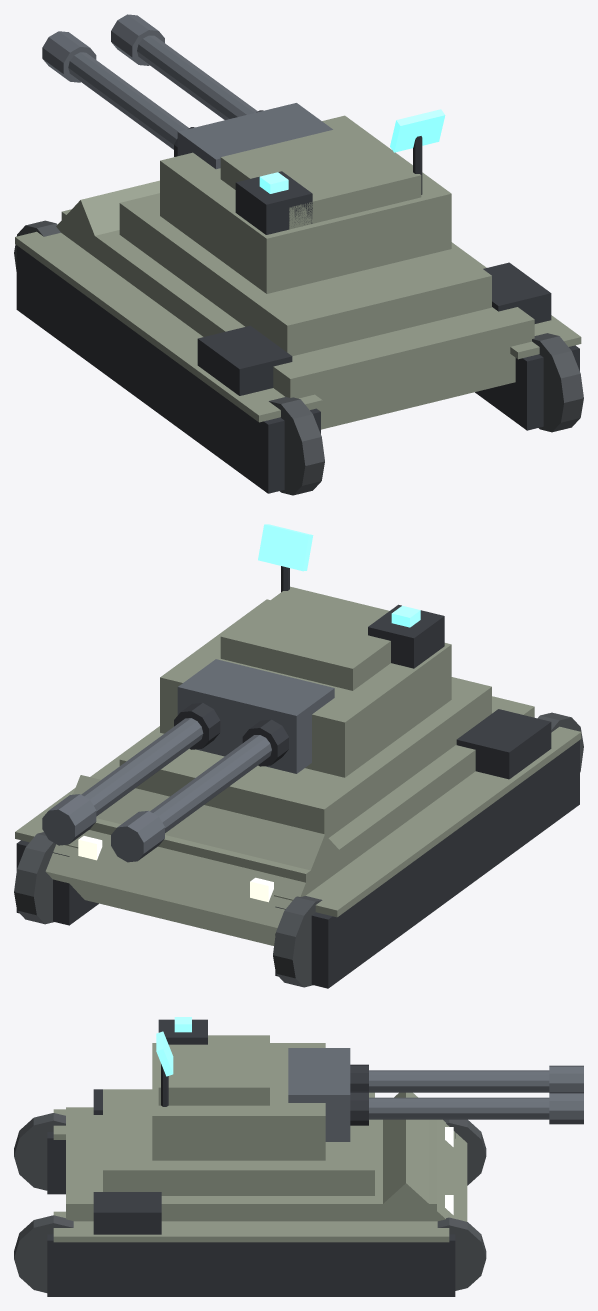
The model's file is tank_twin.glb.
3 renders of one model, top to bottom at view 1: azimuth 30°, elevation 25°; view 2: azimuth 150°, elevation 25°; view 3: azimuth 270°, elevation 25°, orthographic. The views are drawn at different scales.
Visible parts, largest first — view 1: TankHull_twin, TankTurret_twin; view 2: TankHull_twin, TankTurret_twin; view 3: TankHull_twin, TankTurret_twin.
Part boxes in pixels (x1,y1,x2,y2): TankHull_twin: (14, 180, 583, 495); TankTurret_twin: (42, 14, 451, 293); TankHull_twin: (14, 677, 583, 988); TankTurret_twin: (42, 524, 451, 862); TankHull_twin: (14, 1089, 486, 1296); TankTurret_twin: (152, 1017, 583, 1160).
Size of the model in its own units: 2.44 by 2.03 by 4.61.
